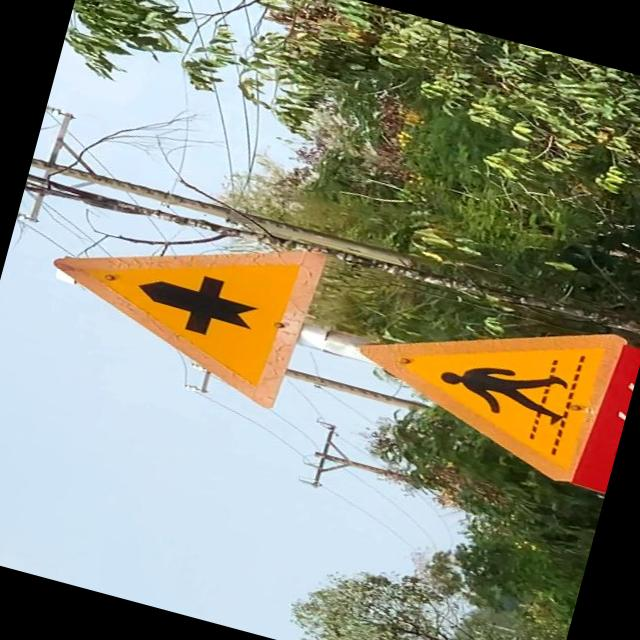W-207a: (27, 184, 334, 416)
W-224: (335, 268, 628, 488)
